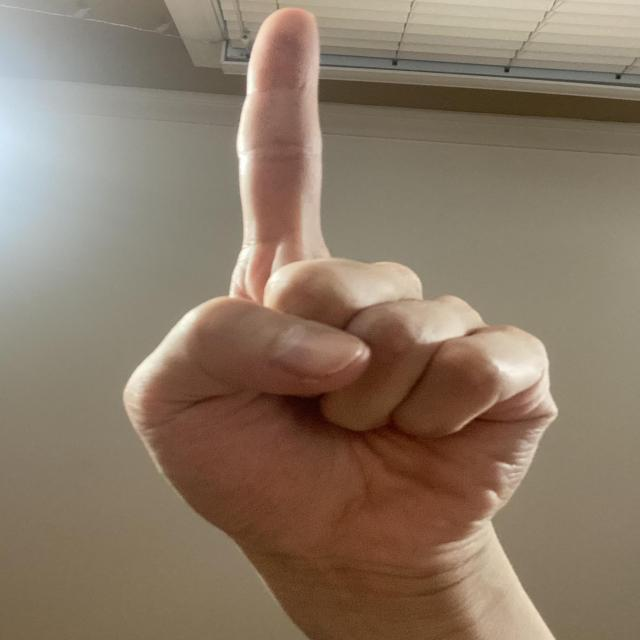Z: (108, 2, 570, 568)
